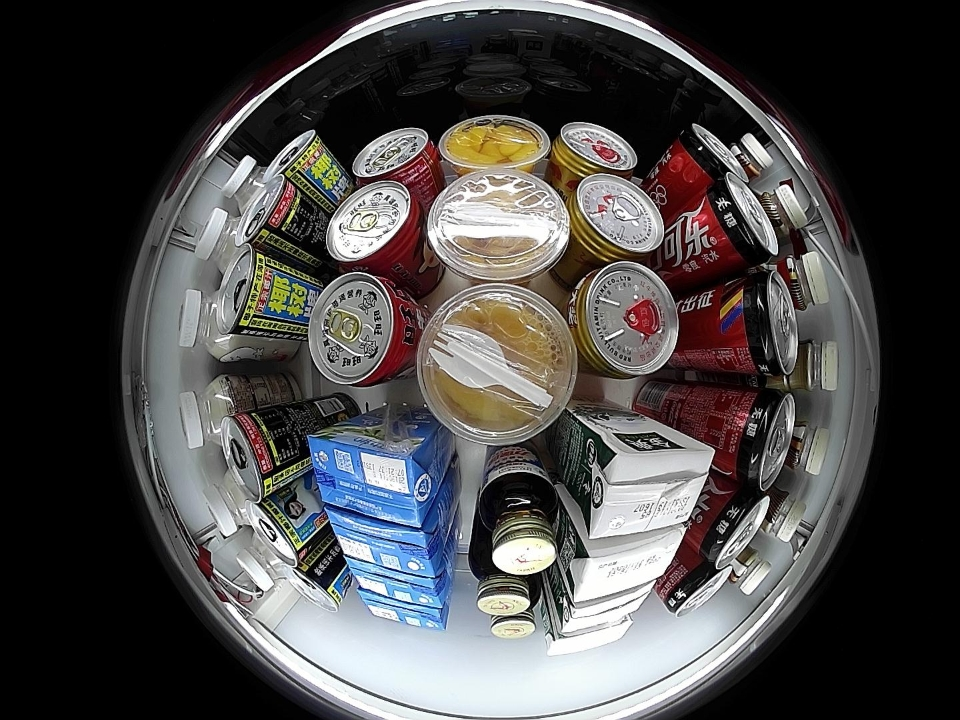hongniu: (567, 261, 679, 378), (551, 121, 638, 180)
hongniu2: (567, 173, 665, 264)
jindian: (582, 431, 715, 542), (566, 526, 688, 603), (556, 582, 655, 634), (546, 617, 636, 656)
kafei: (768, 251, 829, 312), (773, 340, 838, 394), (758, 182, 808, 246), (757, 484, 807, 542), (783, 421, 828, 476), (725, 542, 771, 595), (729, 132, 773, 182)
libaojian: (475, 468, 563, 576), (468, 546, 535, 617), (487, 603, 540, 639)
lingdukele: (722, 273, 799, 379), (718, 387, 796, 489), (698, 174, 780, 270), (693, 485, 770, 569), (671, 122, 745, 187), (659, 555, 734, 618)
wangzainiunai: (307, 272, 421, 389), (326, 179, 427, 278), (352, 127, 439, 192)
weitanai: (307, 423, 442, 528), (326, 503, 444, 578), (346, 558, 450, 607), (359, 590, 451, 631)
weiweidounai: (178, 375, 243, 450), (178, 288, 243, 362), (194, 207, 248, 276), (201, 469, 255, 536), (236, 537, 286, 590), (222, 155, 268, 211)
xianguolao: (417, 284, 578, 444), (426, 171, 572, 282), (438, 114, 551, 176)
yezhi: (221, 410, 285, 500), (218, 246, 278, 341), (236, 174, 302, 247), (245, 495, 312, 565), (281, 555, 349, 613), (264, 129, 326, 184)
